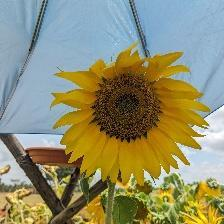sunflower: (75, 56, 186, 180)
